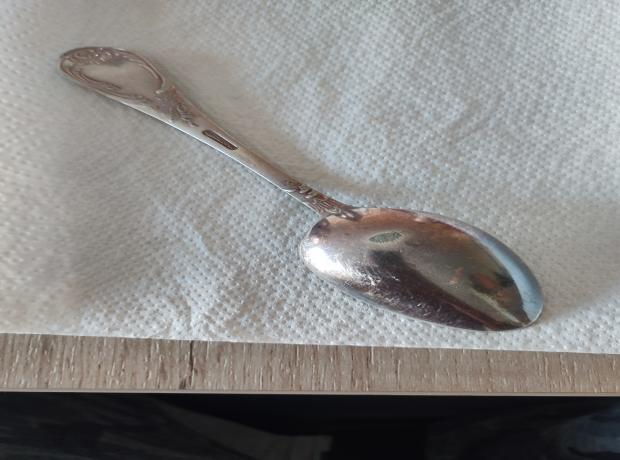metal: (58, 45, 548, 332)
